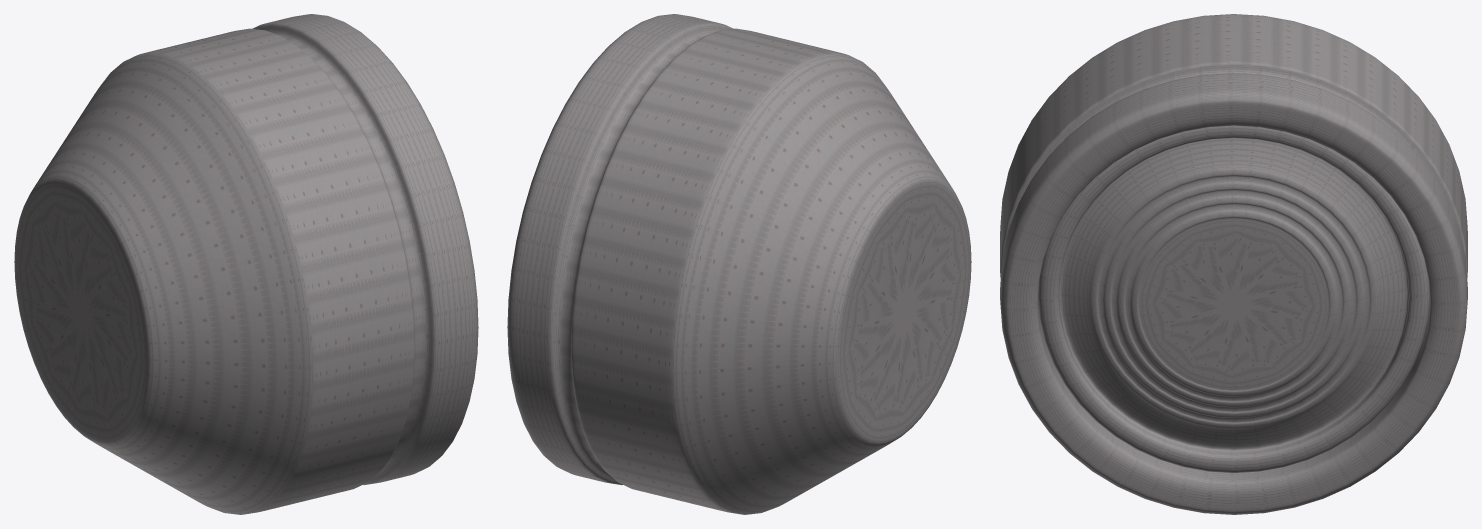
3 views of the same model, side by side, from view 1: azimuth 30°, elevation 25°; view 2: azimuth 150°, elevation 25°; view 3: azimuth 270°, elevation 25° (orthographic).
Parts seen in each view (by area): view 1: Cylinder.425; view 2: Cylinder.425; view 3: Cylinder.425.
Boxes of the visible parts, x1,y1,x2,y2 form: Cylinder.425: (14,14,478,514); Cylinder.425: (507,14,971,514); Cylinder.425: (1000,14,1467,514).
Bounding box in the file's own units: 0.617 × 0.894 × 0.894.
1 material, 1 textured.
